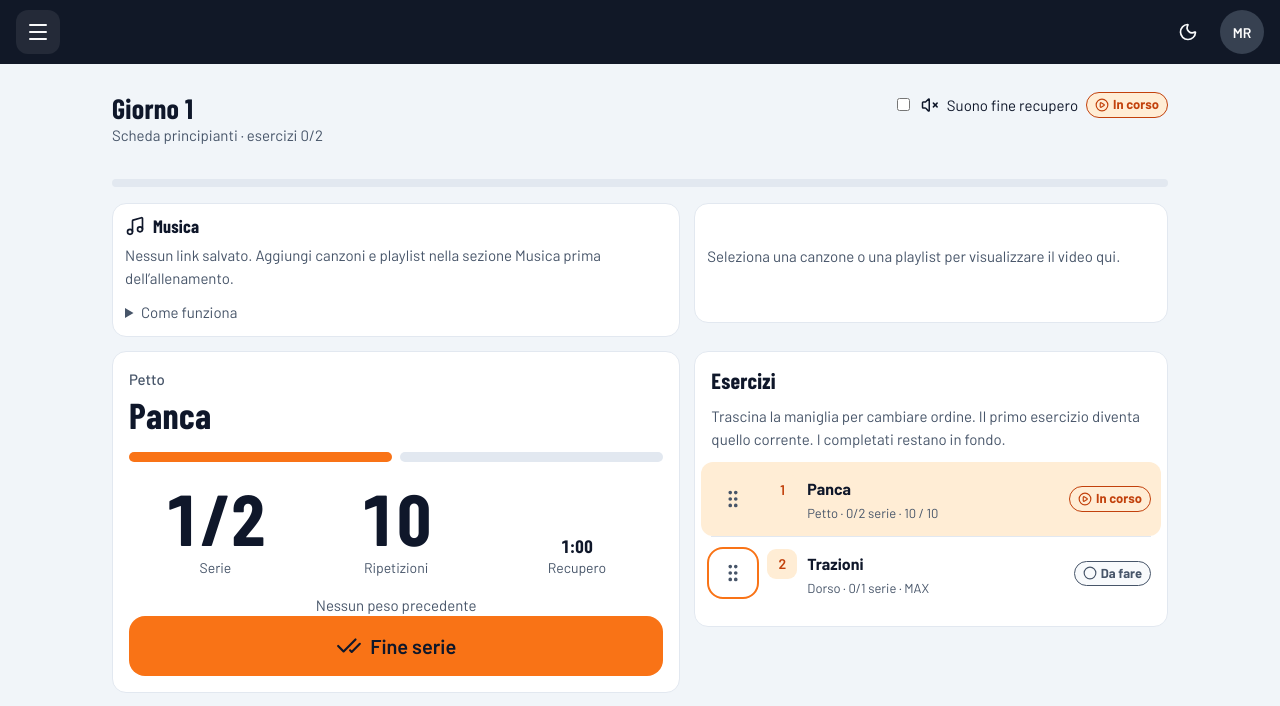
Test case: workout execution order › locks all conflicting actions during saving and does not offer reorder after finishing
Type keys " {ArrowUp}{Enter}"
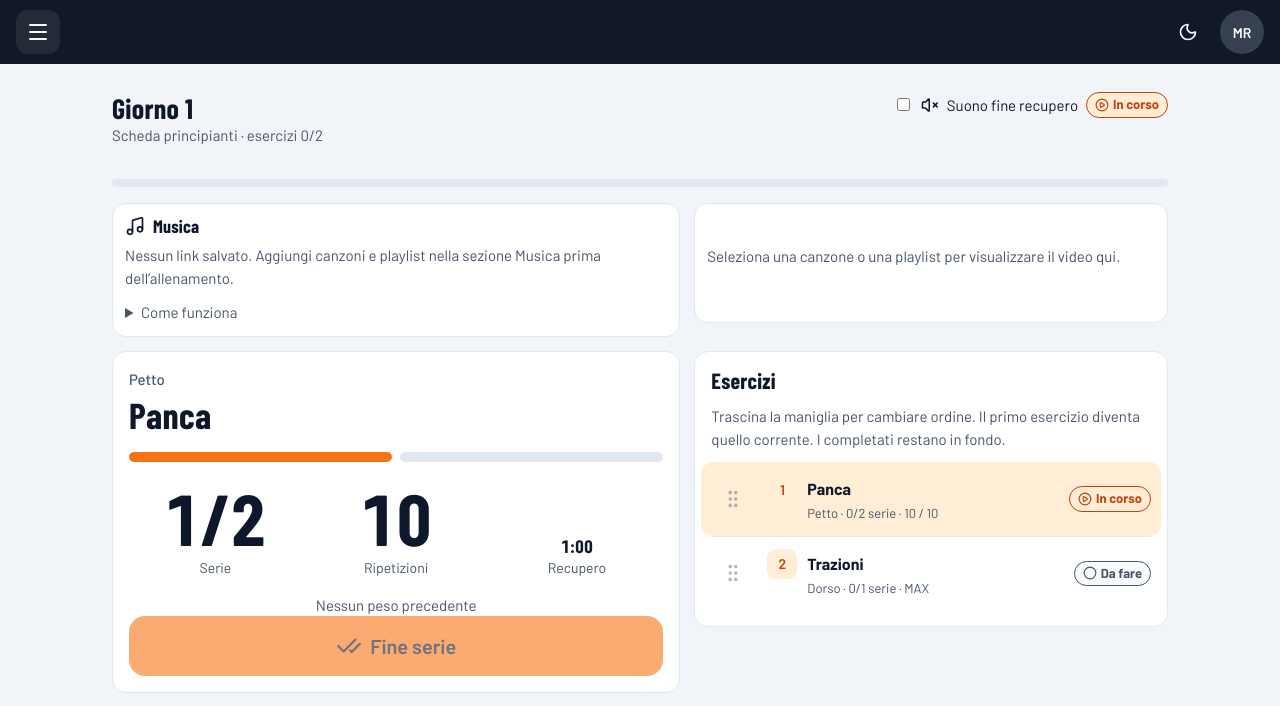
expect the button "Fine serie" is disabled: met, box 129,616 -> 663,676
Click the button named "Trascina Trazioni": (733, 573) 711,551 -> 755,595
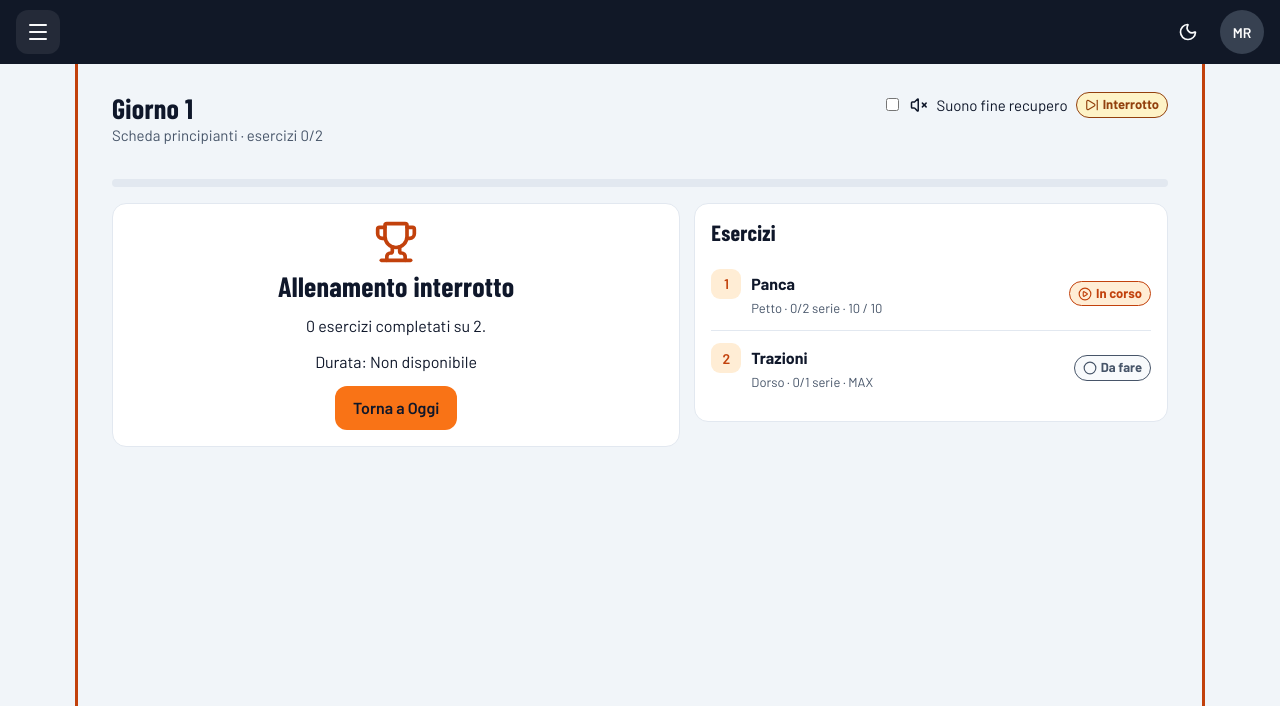
expect the heading "Allenamento interrotto" is shown: met, box 278,269 -> 514,303
expect the text "Trascina" is gone: met
